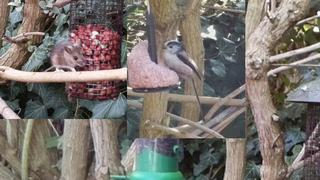long tailed tit: (162, 40, 205, 123)
mouse: (26, 40, 87, 85)
